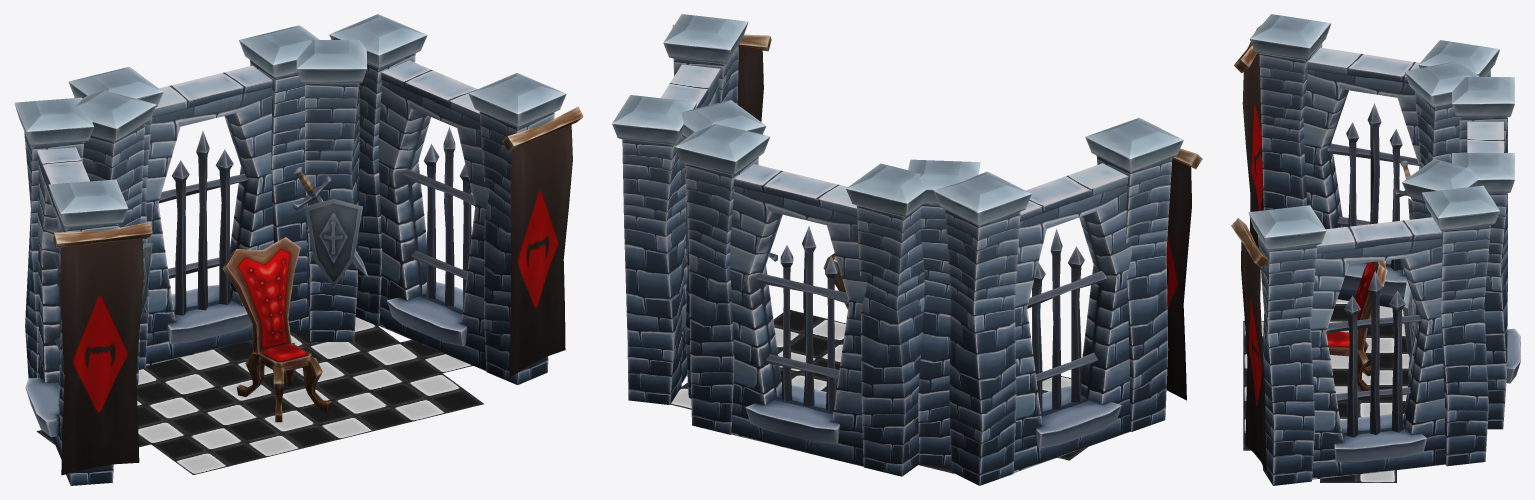
File: Vampire_Village_Interior_06.FBX
3 renders of one model, left to right at view 1: azimuth 30°, elevation 25°; view 2: azimuth 150°, elevation 25°; view 3: azimuth 270°, elevation 25°, orthographic. The views are drawn at different scales.
Parts seen in each view (by area): view 1: Vampire_Village_Interior_06; view 2: Vampire_Village_Interior_06; view 3: Vampire_Village_Interior_06.
Boxes of the visible parts, x1,y1,x2,y2 form: Vampire_Village_Interior_06: (14, 14, 583, 485); Vampire_Village_Interior_06: (612, 14, 1202, 485); Vampire_Village_Interior_06: (1231, 14, 1520, 485).
Bounding box in the file's own units: 776 × 404 × 406.
